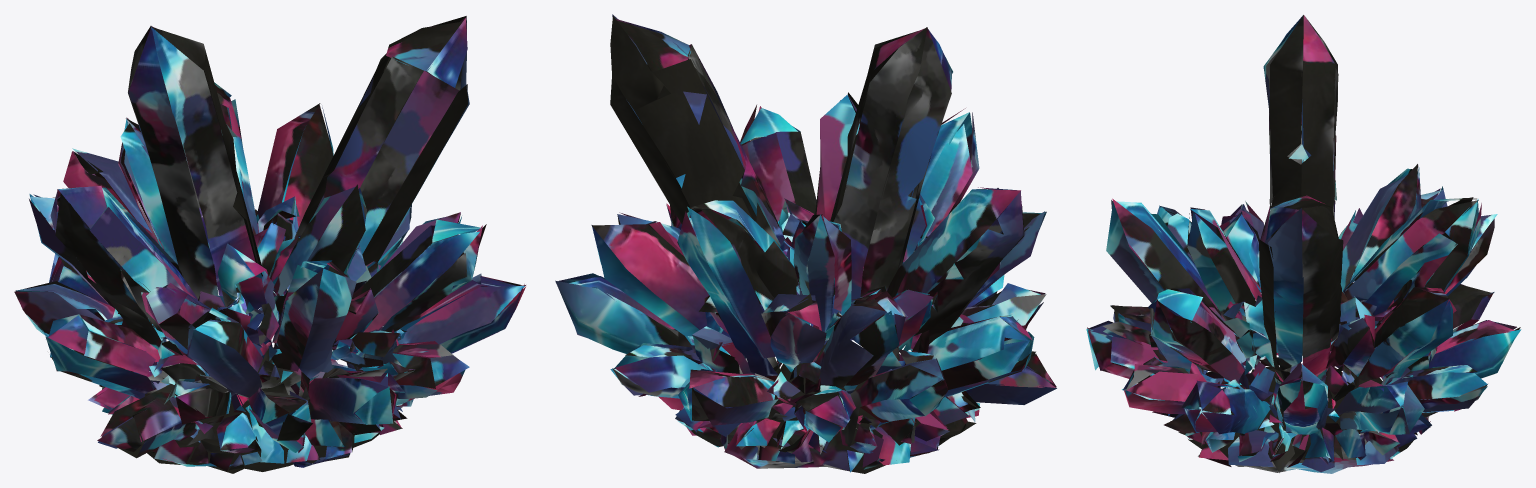
Rendered from Planet_Crystal01.fbx.
The picture shows the model from 3 angles, left to right: view 1: azimuth 30°, elevation 25°; view 2: azimuth 150°, elevation 25°; view 3: azimuth 270°, elevation 25°; orthographic projection. The views are drawn at different scales.
Parts seen in each view (by area): view 1: Planet_Crystal01; view 2: Planet_Crystal01; view 3: Planet_Crystal01.
Boxes of the visible parts, x1,y1,x2,y2 form: Planet_Crystal01: [14, 16, 525, 473]; Planet_Crystal01: [555, 14, 1056, 473]; Planet_Crystal01: [1086, 15, 1521, 473].
Size of the model in its own units: 1.03 by 1 by 1.03.
